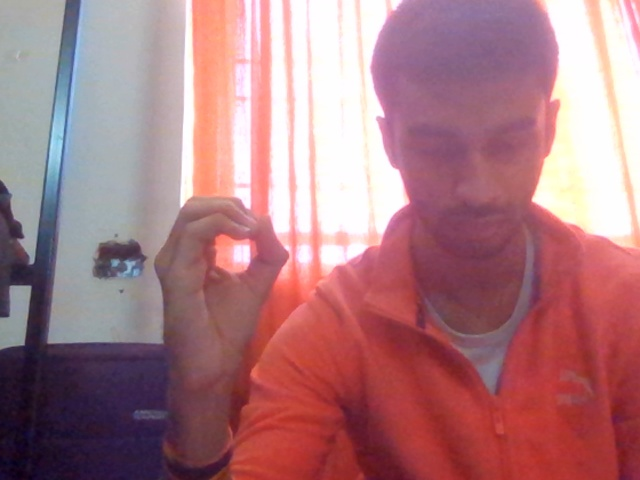O: (136, 169, 334, 446)
